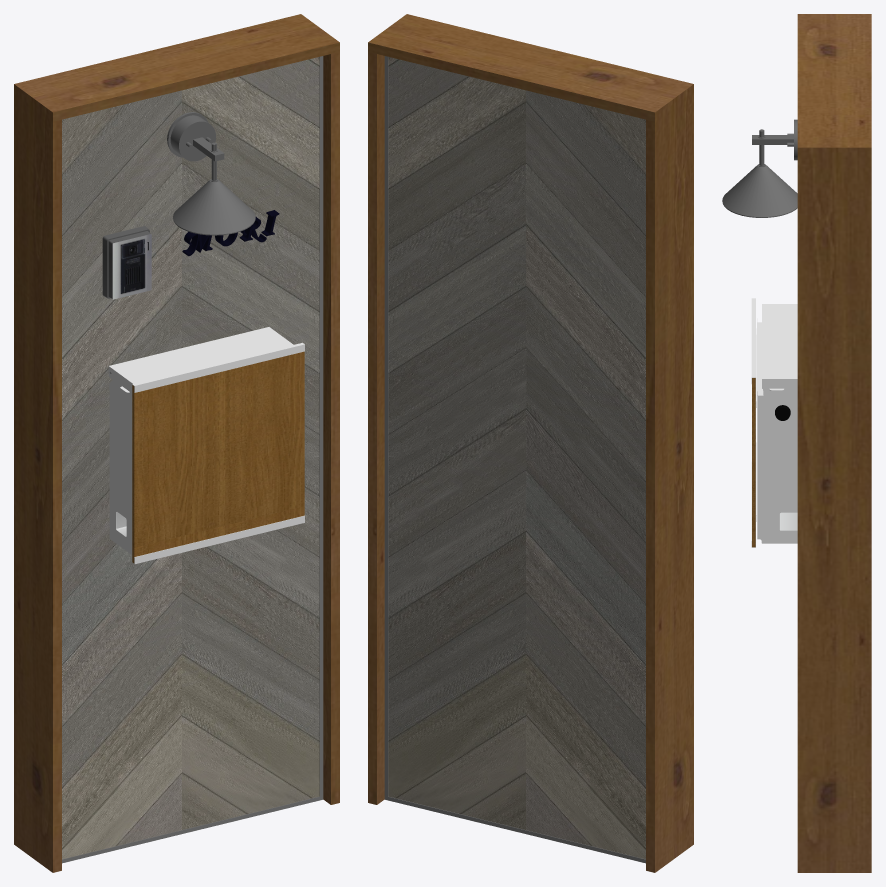
File: 640ｰ1620_herringbonebrown.fbx
The picture shows the model from 3 angles, left to right: view 1: azimuth 30°, elevation 25°; view 2: azimuth 150°, elevation 25°; view 3: azimuth 270°, elevation 25°; orthographic projection. The views are drawn at different scales.
Parts seen in each view (by area): view 1: 640ｰ1620_herringbonebrown; view 2: 640ｰ1620_herringbonebrown; view 3: 640ｰ1620_herringbonebrown.
Boxes of the visible parts, left/top/right/bottom form: 640ｰ1620_herringbonebrown: left=14, top=14, right=339, bottom=872; 640ｰ1620_herringbonebrown: left=368, top=14, right=693, bottom=872; 640ｰ1620_herringbonebrown: left=722, top=14, right=871, bottom=872.
Bounding box in the file's own units: 64 × 162 × 30.22.
Materials: 14 (5 with a texture image).
